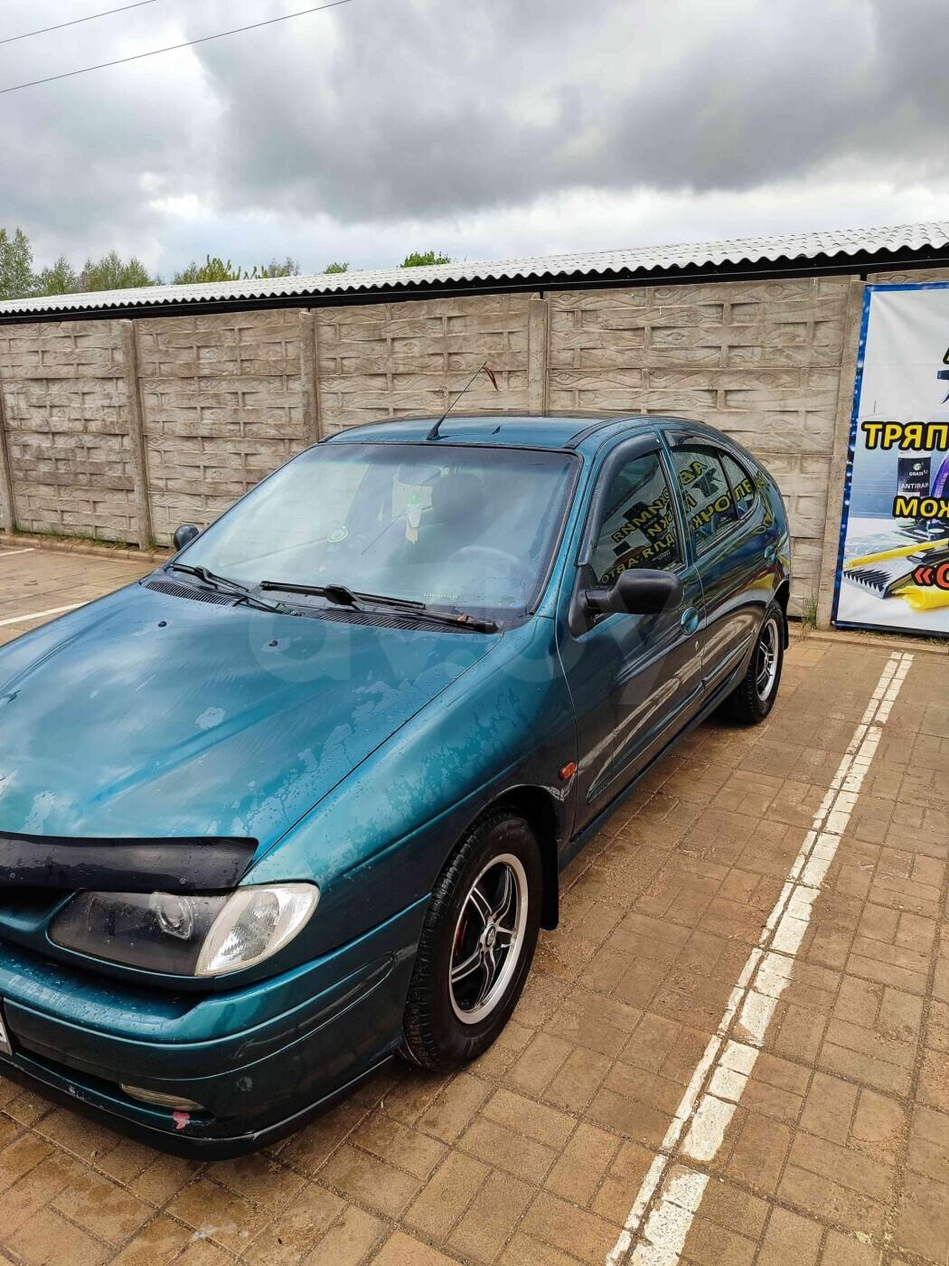Megane_1995-1999: (0, 409, 799, 1157)
